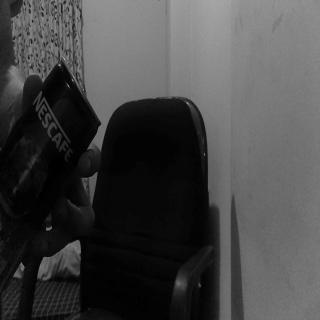alumunium_can: (0, 55, 99, 229)
